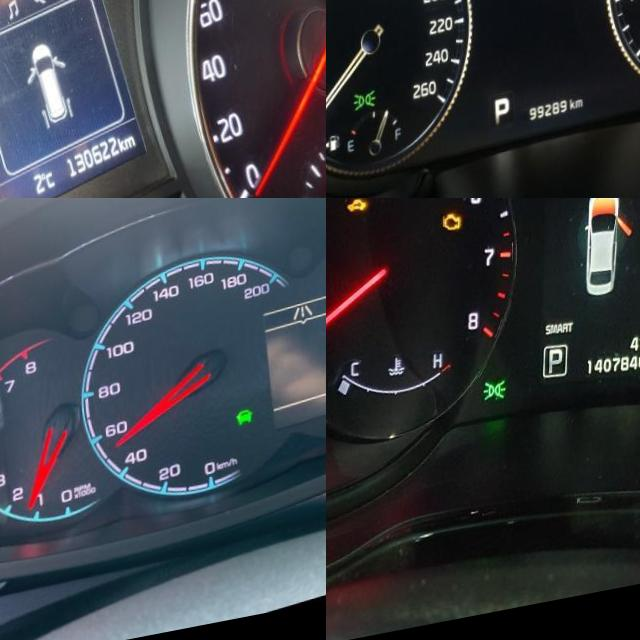SideLamp: (483, 386, 506, 412), (353, 98, 376, 123)
